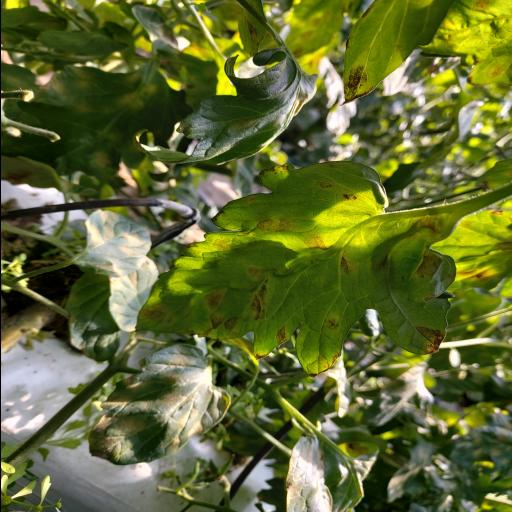disease_tomato: (136, 158, 458, 374), (86, 344, 230, 467), (73, 208, 151, 278)
